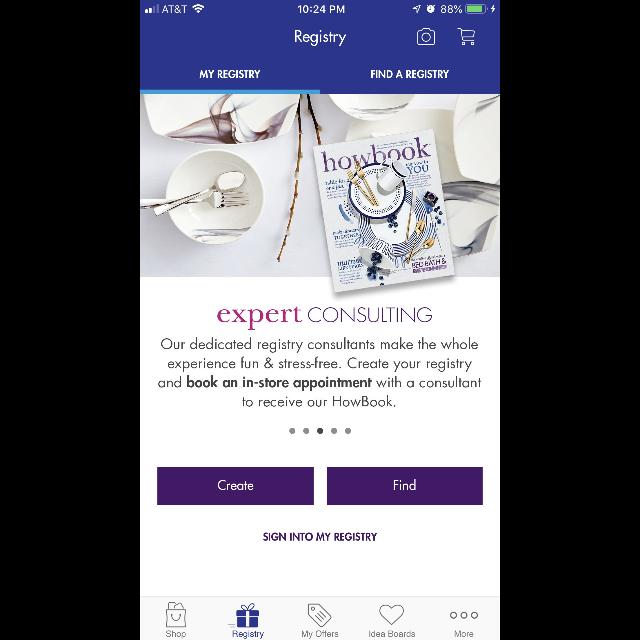icon: (228, 603, 260, 627), (308, 603, 332, 627), (166, 602, 186, 628), (380, 605, 404, 625), (458, 28, 474, 46), (418, 28, 434, 46), (450, 612, 478, 618)
image: (140, 94, 500, 294)
pageindicator: (289, 428, 351, 434)
text: (158, 338, 482, 407), (218, 306, 432, 330), (263, 533, 377, 541), (295, 30, 347, 46), (371, 70, 449, 78), (200, 70, 260, 78), (302, 630, 338, 638), (369, 631, 415, 637), (232, 631, 264, 639), (166, 630, 186, 638), (454, 630, 474, 638)
textbutton: (158, 467, 314, 505), (328, 467, 482, 505)
uppertaskbar: (140, 0, 500, 14)
